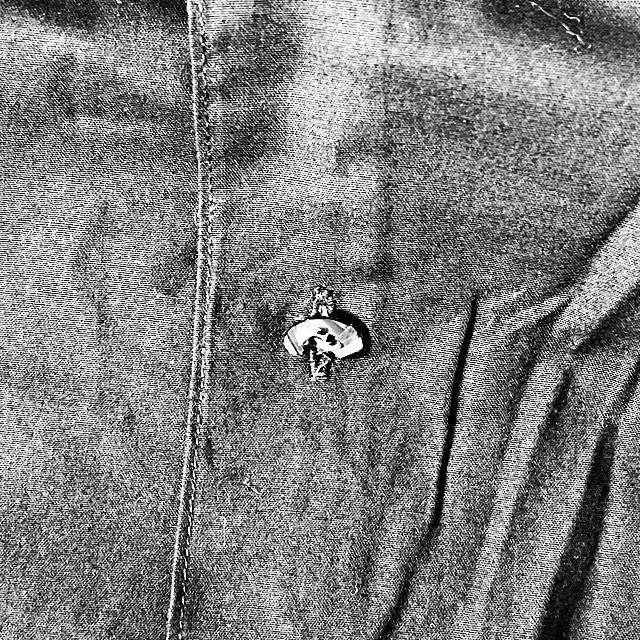Broken_button: (252, 298, 379, 372)
